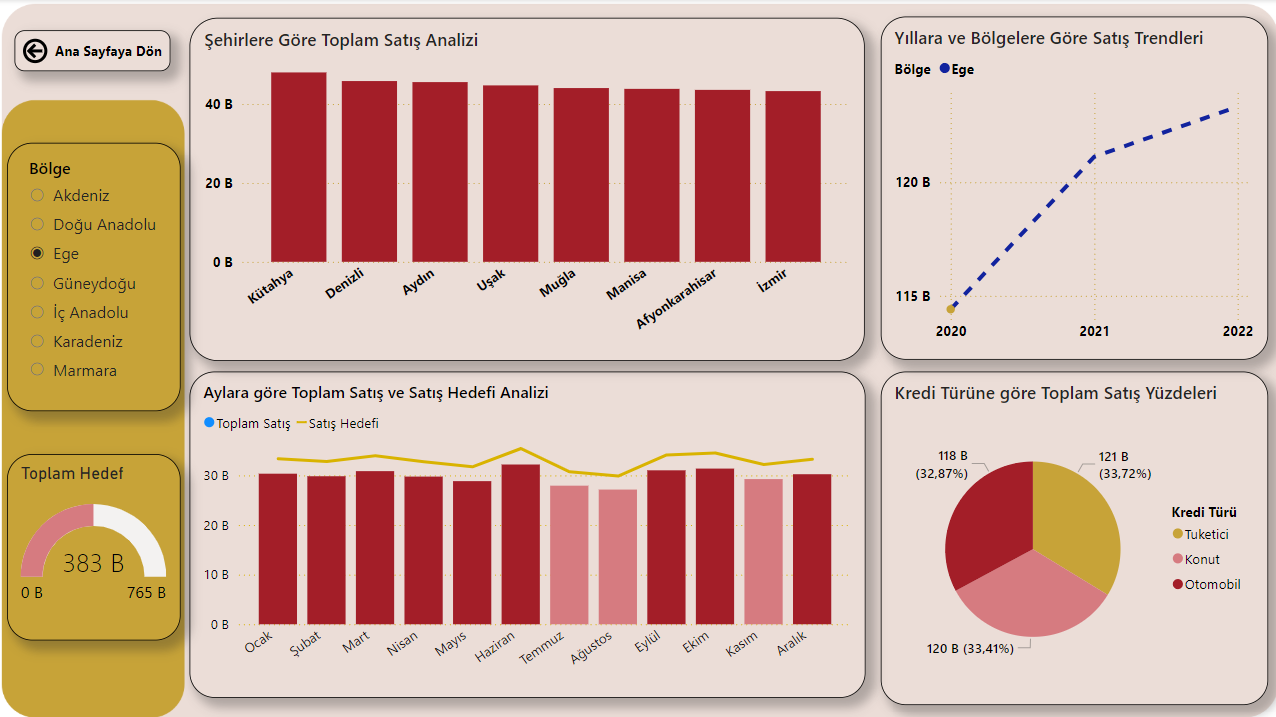

The dashboard page shown, as its layout file describes it:
{"tool":"powerbi","page":{"name":"Bölge Detayları","canvas":[1280,720],"ordinal":1},"visuals":[{"type":"image","box":[0,0,1280,720.3],"z":0},{"type":"slicer","fields":{"Values":["Şubeler.Bolgesi"]},"box":[10,143.1,172.9,267.5],"z":1000},{"type":"columnChart","title":"Şehirlere Göre Toplam Satış Analizi","fields":{"Y":["Sum(Krediler.Satış)"],"Category":["Şubeler.Konum"]},"box":[192.1,19.2,672.4,341.7],"z":2000},{"type":"pieChart","title":"Kredi Türüne göre Toplam Satış Yüzdeleri","fields":{"Category":["Krediler.Kategori"],"Y":["Sum(Krediler.Satış)"]},"box":[879.6,370.5,385.6,332.1],"z":3000},{"type":"lineChart","title":"Yıllara ve Bölgelere Göre Satış Trendleri","fields":{"Category":["Krediler.Ay.Varyasyon.Tarih Hiyerarşisi.Yıl"],"Y":["Sum(Krediler.Satış)"],"Series":["Şubeler.Bolgesi"]},"box":[879.6,17.8,385.6,341.7],"z":4000},{"type":"gauge","fields":{"Y":["Sum(Krediler.Hedef)"]},"box":[9.6,452.8,172.9,185.2],"z":5000},{"type":"actionButton","title":"Ana Sayfaya Dön","box":[17.8,31.6,155.1,41.2],"z":6000},{"type":"lineClusteredColumnComboChart","title":"Aylara göre Toplam Satış ve Satış Hedefi Analizi","fields":{"Category":["Krediler.Ay.Varyasyon.Tarih Hiyerarşisi.Ay"],"Y":["Sum(Krediler.Satış)"],"Y2":["Krediler.Satış Hedefi"]},"box":[191.6,370.7,673,324.7],"z":7000}]}

Visuals, with their boxes in screenshot pixels (x1, y1, x2, y2), scaled from the page's 1280x720 canvas onto the 1276x717 screenshot:
image: x1=0 y1=0 x2=1275 y2=716
slicer - Şubeler.Bolgesi: x1=10 y1=143 x2=182 y2=409
"Şehirlere Göre Toplam Satış Analizi" columnChart: x1=191 y1=19 x2=862 y2=359
"Kredi Türüne göre Toplam Satış Yüzdeleri" pieChart: x1=877 y1=369 x2=1261 y2=700
"Yıllara ve Bölgelere Göre Satış Trendleri" lineChart: x1=877 y1=18 x2=1261 y2=358
gauge - Sum(Krediler.Hedef): x1=10 y1=451 x2=182 y2=635
"Ana Sayfaya Dön" actionButton: x1=18 y1=31 x2=172 y2=72
"Aylara göre Toplam Satış ve Satış Hedefi Analizi" lineClusteredColumnComboChart: x1=191 y1=369 x2=862 y2=693
